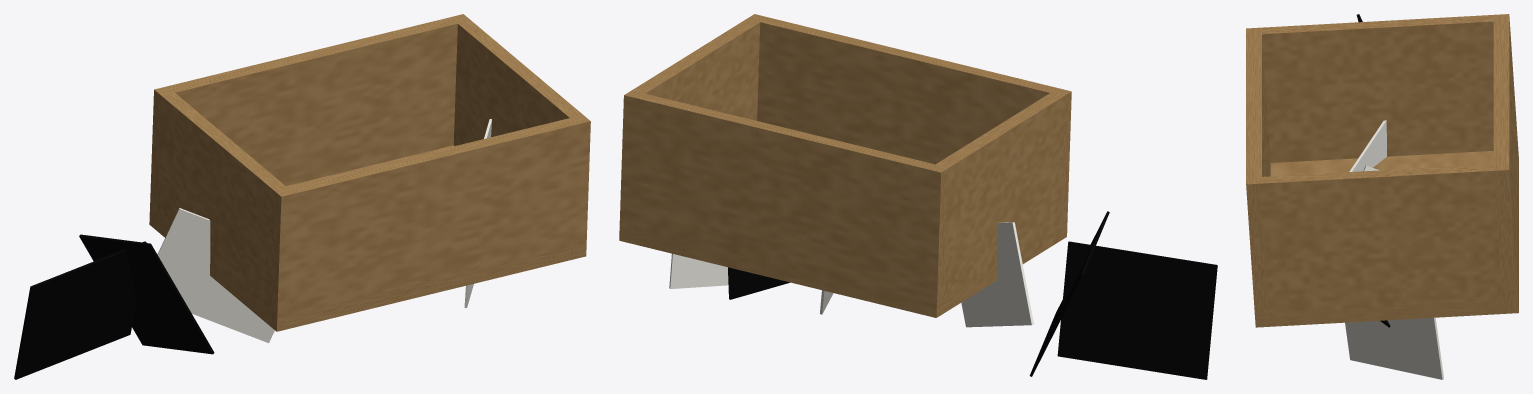
File: PhotoBox_Spilled.glb
The picture shows the model from 3 angles, left to right: view 1: azimuth 30°, elevation 25°; view 2: azimuth 150°, elevation 25°; view 3: azimuth 270°, elevation 25°; orthographic projection. The views are drawn at different scales.
Parts seen in each view (by area): view 1: Front, Back, Left, Photo_0, Right, Photo_4, Photo_1, Bottom; view 2: Back, Front, Photo_0, Left, Right, Bottom, Photo_1, Photo_5, Photo_2, Photo_4; view 3: Right, Left, Bottom, Back, Front, Photo_5, Photo_1.
Boxes of the visible parts, bbox=[...] form: Front: bbox=[269, 115, 590, 328]; Back: bbox=[149, 14, 470, 230]; Left: bbox=[157, 92, 287, 311]; Photo_0: bbox=[14, 241, 146, 379]; Right: bbox=[453, 20, 582, 145]; Photo_4: bbox=[79, 234, 214, 354]; Photo_1: bbox=[157, 208, 274, 343]; Bottom: bbox=[157, 145, 586, 331]; Back: bbox=[619, 90, 948, 317]; Front: bbox=[747, 14, 1071, 225]; Photo_0: bbox=[1057, 241, 1217, 379]; Left: bbox=[935, 93, 1065, 307]; Right: bbox=[632, 19, 760, 120]; Bottom: bbox=[619, 222, 1067, 317]; Photo_1: bbox=[961, 222, 1033, 327]; Photo_5: bbox=[669, 253, 728, 288]; Photo_2: bbox=[728, 267, 789, 299]; Photo_4: bbox=[1029, 211, 1109, 376]; Right: bbox=[1259, 164, 1502, 326]; Left: bbox=[1262, 15, 1493, 162]; Bottom: bbox=[1254, 146, 1518, 327]; Back: bbox=[1493, 14, 1518, 313]; Front: bbox=[1246, 27, 1270, 327]; Photo_5: bbox=[1345, 317, 1443, 379]; Photo_1: bbox=[1349, 120, 1386, 171].
Size of the model in its own units: 0.4603 by 0.1901 by 0.2069.
Materials: 3 (2 with a texture image).
